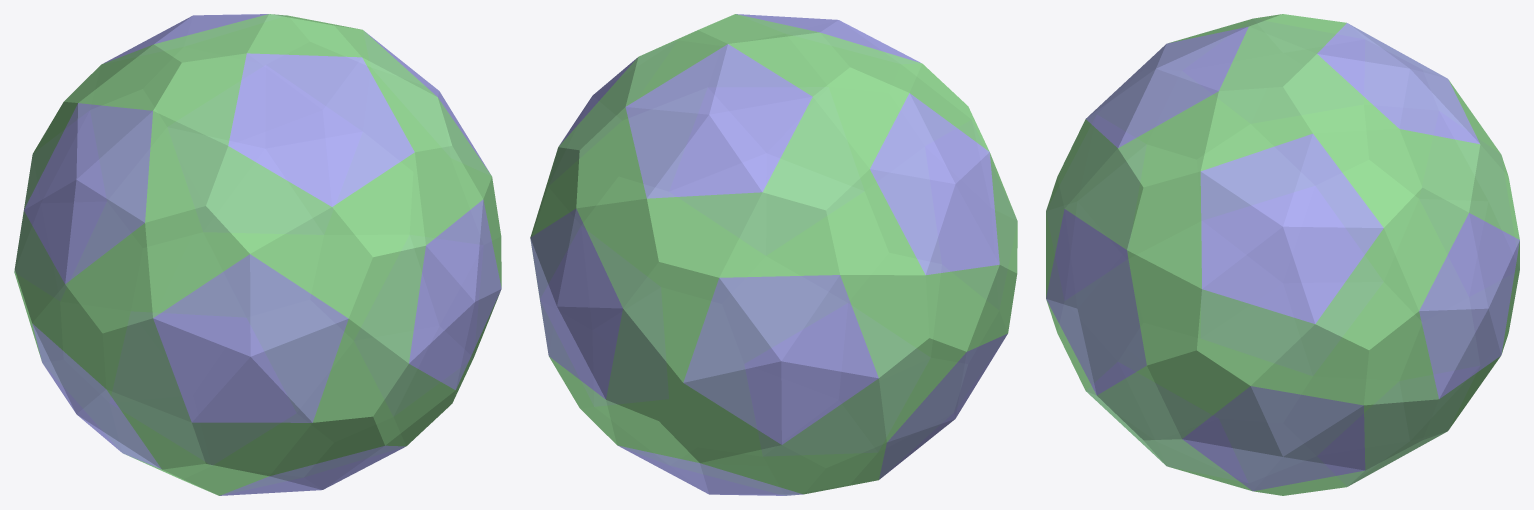
File: BiscribedOrthokisPropelloDodecahedron.obj
3 renders of one model, left to right at view 1: azimuth 30°, elevation 25°; view 2: azimuth 150°, elevation 25°; view 3: azimuth 270°, elevation 25°, orthographic.
Bounding box in the file's own units: 1.96 × 1.96 × 1.96.
